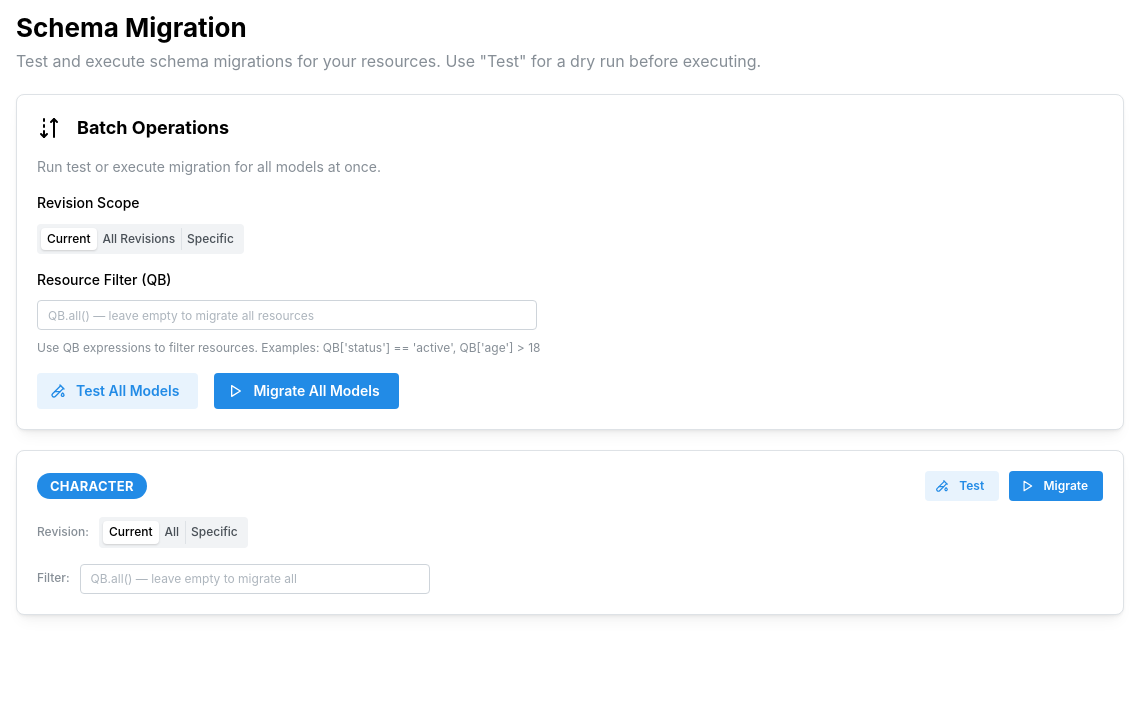
Scenario: MigrationStatus › error handling › shows error from response.data.detail
This screenshot has width=1141, height=707.
Click the button "Test".
click(962, 486)  # box [925, 471, 999, 501]
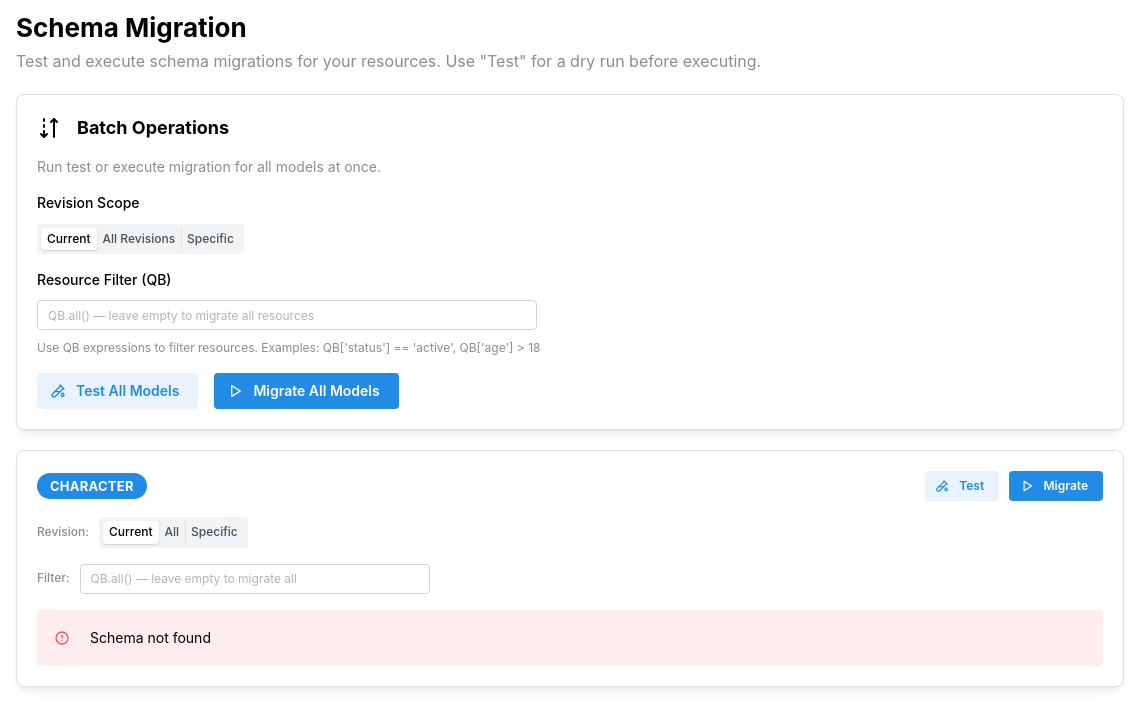
expect the text "Schema not found" is shown: met, box [90, 629, 211, 646]
